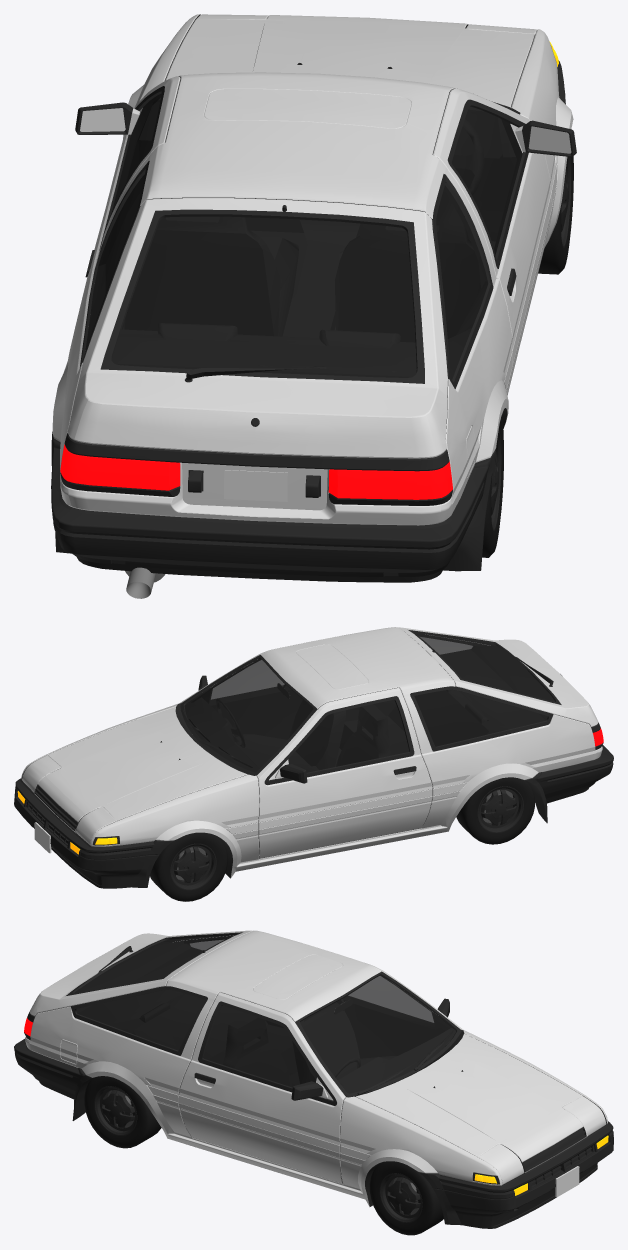
File: ae86_scaled.glb
3 views of the same model, one above another, from view 1: azimuth 30°, elevation 25°; view 2: azimuth 150°, elevation 25°; view 3: azimuth 270°, elevation 25° (orthographic). The views are drawn at different scales.
Visible parts, largest first — view 1: Toyota Corolla AE86_4, Front Right Wheel_1.001, Rear Wheels_3.001, Lights_2.001; view 2: Toyota Corolla AE86_4, Front Left Wheel_0.001, Rear Wheels_3.001, Lights_2.001; view 3: Toyota Corolla AE86_4, Front Right Wheel_1.001, Rear Wheels_3.001, Lights_2.001.
Boxes of the visible parts, left/top/right/bottom form: Toyota Corolla AE86_4: left=51, top=14, right=576, bottom=598; Front Right Wheel_1.001: left=538, top=156, right=573, bottom=274; Rear Wheels_3.001: left=482, top=415, right=503, bottom=557; Lights_2.001: left=197, top=14, right=536, bottom=52; Toyota Corolla AE86_4: left=14, top=627, right=613, bottom=888; Front Left Wheel_0.001: left=150, top=832, right=227, bottom=901; Rear Wheels_3.001: left=456, top=777, right=534, bottom=844; Lights_2.001: left=22, top=755, right=116, bottom=844; Toyota Corolla AE86_4: left=14, top=930, right=613, bottom=1228; Front Right Wheel_1.001: left=369, top=1161, right=443, bottom=1235; Rear Wheels_3.001: left=84, top=1076, right=161, bottom=1148; Lights_2.001: left=478, top=1096, right=606, bottom=1184.
Bounding box in the file's own units: 2.87 × 1.05 × 3.37.
